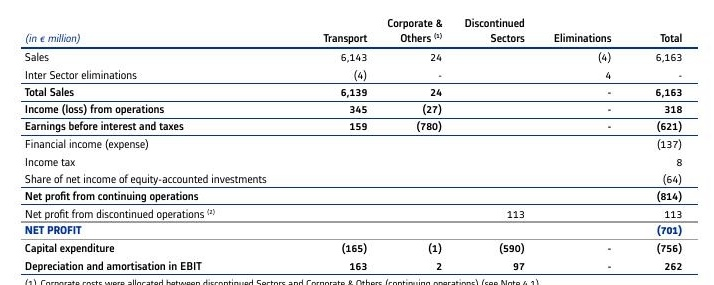table: (0, 0, 714, 285)
